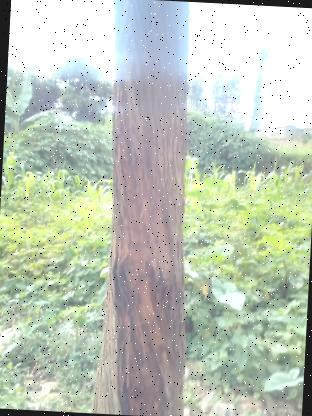tree: (85, 0, 210, 416)
